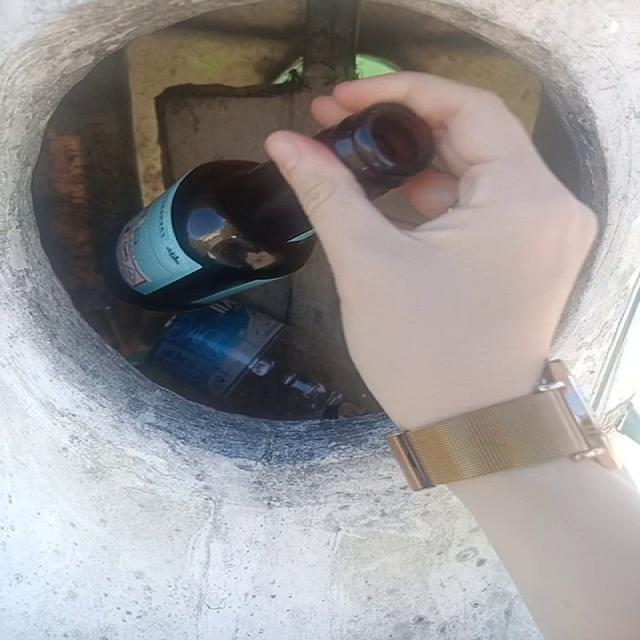Glass: (115, 160, 315, 311), (313, 103, 435, 198)
